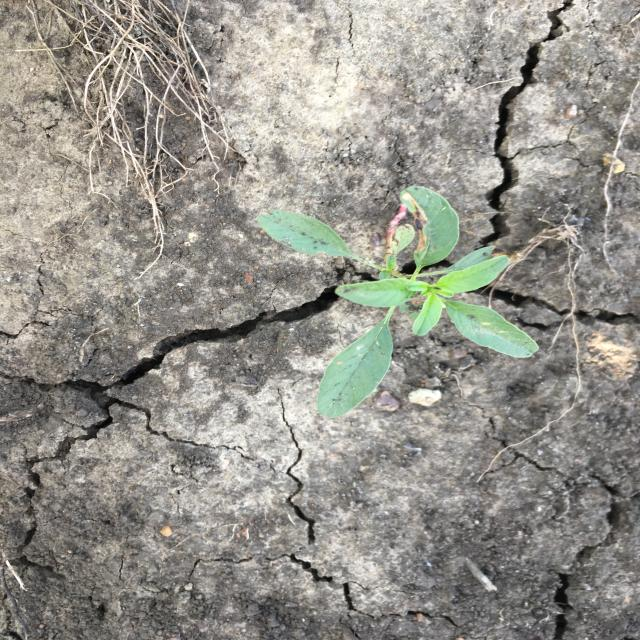Waterhemp: (251, 184, 542, 422)
